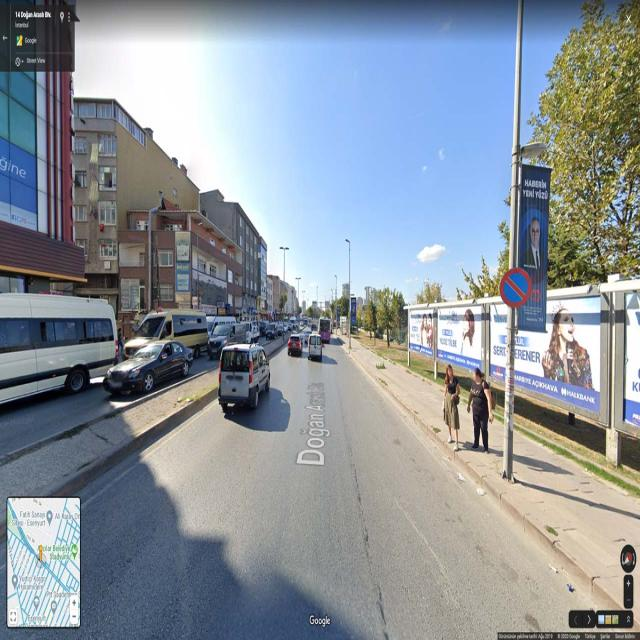parkyasak: (500, 262, 530, 310)
